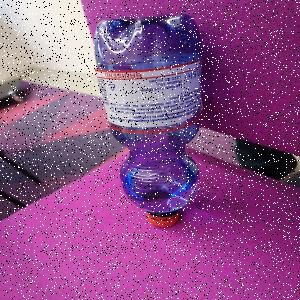Plastic-bottle: (94, 13, 208, 230)
